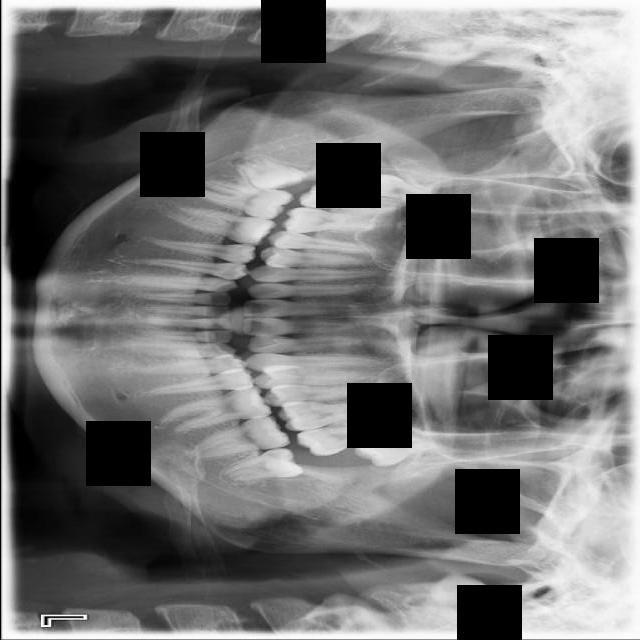3M ESPE Implant: (354, 169, 432, 204)
73: (56, 588, 68, 594)
BioHorizons Implant: (295, 414, 399, 461)
BioLife Implant: (353, 433, 435, 469)
Biomet 3i Implant: (219, 447, 303, 483)
Blue Sky Bio Implant: (184, 411, 292, 461)
Caries: (298, 182, 404, 212)
Implant: (190, 176, 295, 223)
Keystone Dental Implant: (226, 148, 310, 202)
